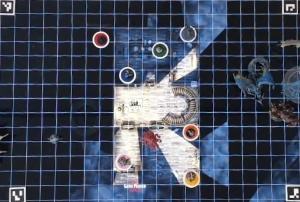blue: (118, 64, 139, 85)
green: (151, 40, 170, 60)
orange: (183, 123, 201, 142)
pink: (116, 155, 131, 168)
red: (90, 28, 109, 51)
violet: (178, 23, 195, 43)
yellow: (180, 166, 201, 187)
